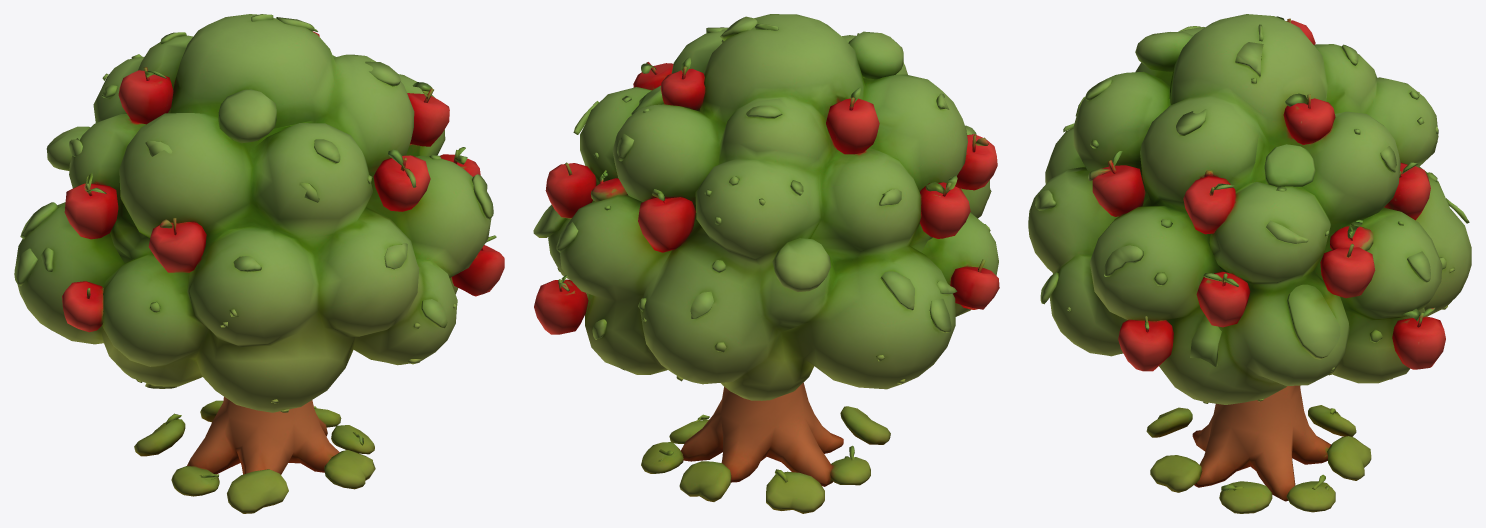
File: apple_tree.glb
The picture shows the model from 3 angles, left to right: view 1: azimuth 30°, elevation 25°; view 2: azimuth 150°, elevation 25°; view 3: azimuth 270°, elevation 25°; orthographic projection. The views are drawn at different scales.
Visible parts, largest first — view 1: tripo_node_259becb0-cfd9-4b2a-8f55-5a9c568e499e; view 2: tripo_node_259becb0-cfd9-4b2a-8f55-5a9c568e499e; view 3: tripo_node_259becb0-cfd9-4b2a-8f55-5a9c568e499e.
Part boxes in pixels (<box>): tripo_node_259becb0-cfd9-4b2a-8f55-5a9c568e499e: <box>14,14,504,513</box>; tripo_node_259becb0-cfd9-4b2a-8f55-5a9c568e499e: <box>533,14,999,513</box>; tripo_node_259becb0-cfd9-4b2a-8f55-5a9c568e499e: <box>1028,14,1471,513</box>.
Size of the model in its own units: 4.12 by 4.2 by 3.85.
Materials: 1 (1 with a texture image).
